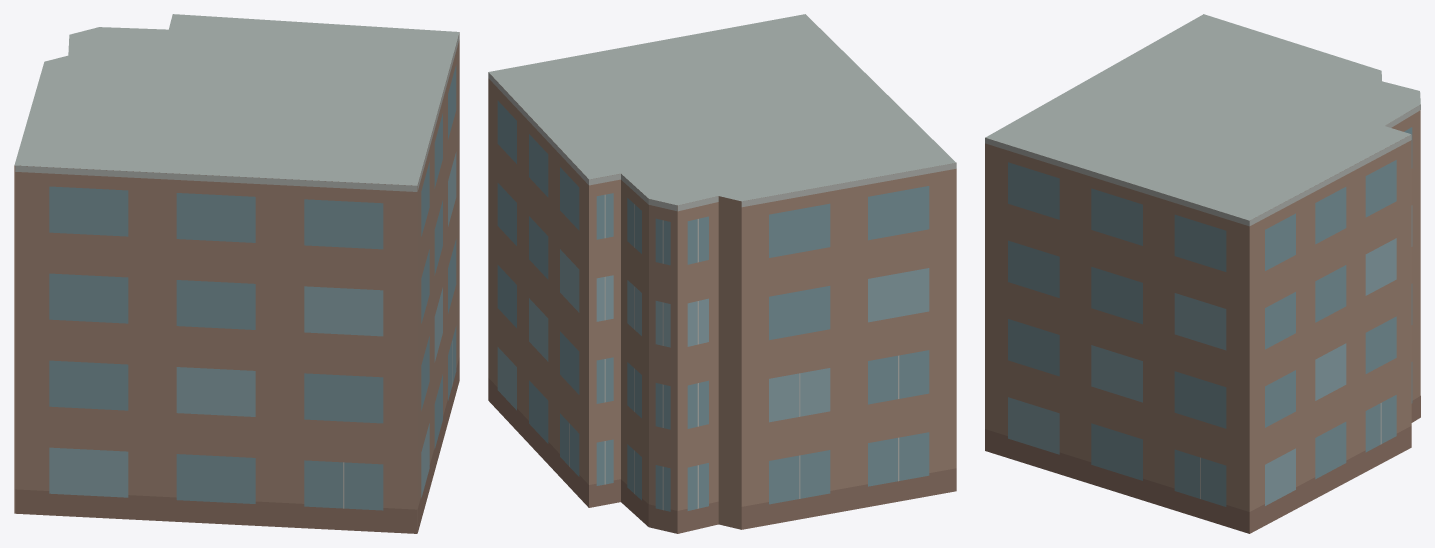
The model's file is survey-upis-32853508.glb.
The picture shows the model from 3 angles, left to right: view 1: azimuth 30°, elevation 25°; view 2: azimuth 150°, elevation 25°; view 3: azimuth 270°, elevation 25°; orthographic projection. The views are drawn at different scales.
Visible parts, largest first — view 1: survey-upis-32853508.tmp; view 2: survey-upis-32853508.tmp; view 3: survey-upis-32853508.tmp.
Boxes of the visible parts, left/top/right/bottom form: survey-upis-32853508.tmp: left=14, top=14, right=459, bottom=533; survey-upis-32853508.tmp: left=488, top=14, right=956, bottom=533; survey-upis-32853508.tmp: left=985, top=14, right=1420, bottom=533.
Size of the model in its own units: 18.97 by 13.4 by 16.91.
